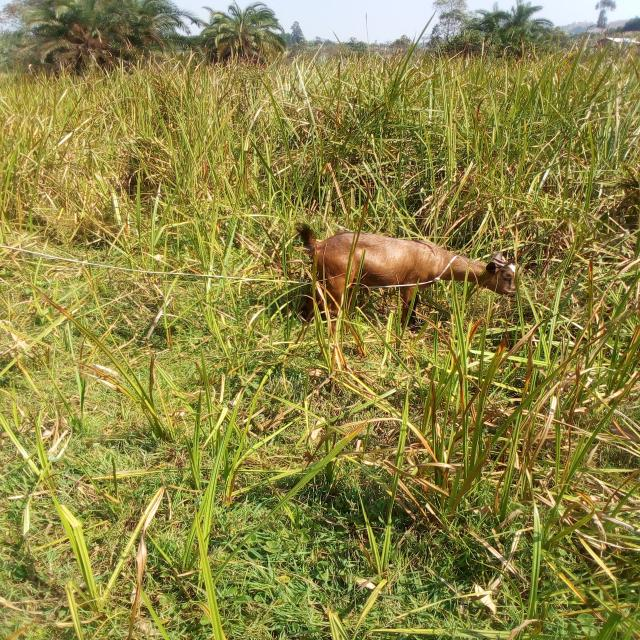goat: (239, 178, 571, 369)
